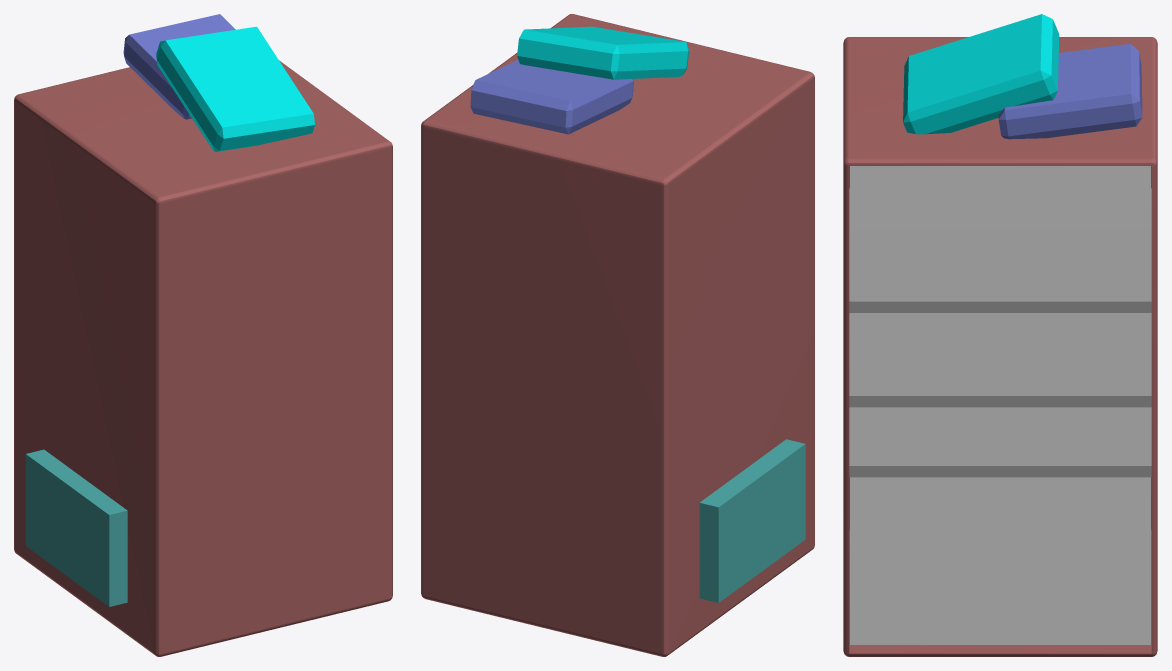
The model's file is fridgeopen.fbx.
3 renders of one model, left to right at view 1: azimuth 30°, elevation 25°; view 2: azimuth 150°, elevation 25°; view 3: azimuth 270°, elevation 25°, orthographic. The views are drawn at different scales.
Parts seen in each view (by area): view 1: pasted__pasted__pCube2, pasted__pasted__pasted__pCube22, pasted__pasted__pCube7, pasted__pasted__pasted__pCube23; view 2: pasted__pasted__pCube2, pasted__pasted__pCube7, pasted__pasted__pasted__pCube23, pasted__pasted__pasted__pCube22; view 3: pCube1, pasted__pasted__pCube2, pCube2, pCube4, pCube3, pCube5, pasted__pasted__pasted__pCube22, pasted__pasted__pasted__pCube23.
Boxes of the visible parts, x1,y1,x2,y2 form: pasted__pasted__pCube2: (14, 60, 392, 656); pasted__pasted__pasted__pCube22: (156, 26, 314, 151); pasted__pasted__pCube7: (25, 449, 127, 606); pasted__pasted__pasted__pCube23: (123, 14, 235, 119); pasted__pasted__pCube2: (421, 14, 814, 656); pasted__pasted__pCube7: (699, 439, 805, 602); pasted__pasted__pasted__pCube23: (470, 60, 633, 134); pasted__pasted__pasted__pCube22: (517, 26, 689, 79); pCube1: (850, 477, 1150, 644); pasted__pasted__pCube2: (843, 37, 1157, 656); pCube2: (849, 313, 1151, 407); pCube4: (849, 188, 1151, 312); pCube3: (849, 407, 1151, 477); pCube5: (850, 166, 1150, 229); pasted__pasted__pasted__pCube22: (903, 14, 1059, 134); pasted__pasted__pasted__pCube23: (998, 43, 1142, 139).
Bounding box in the file's own units: 4.25 × 8.37 × 4.16.
